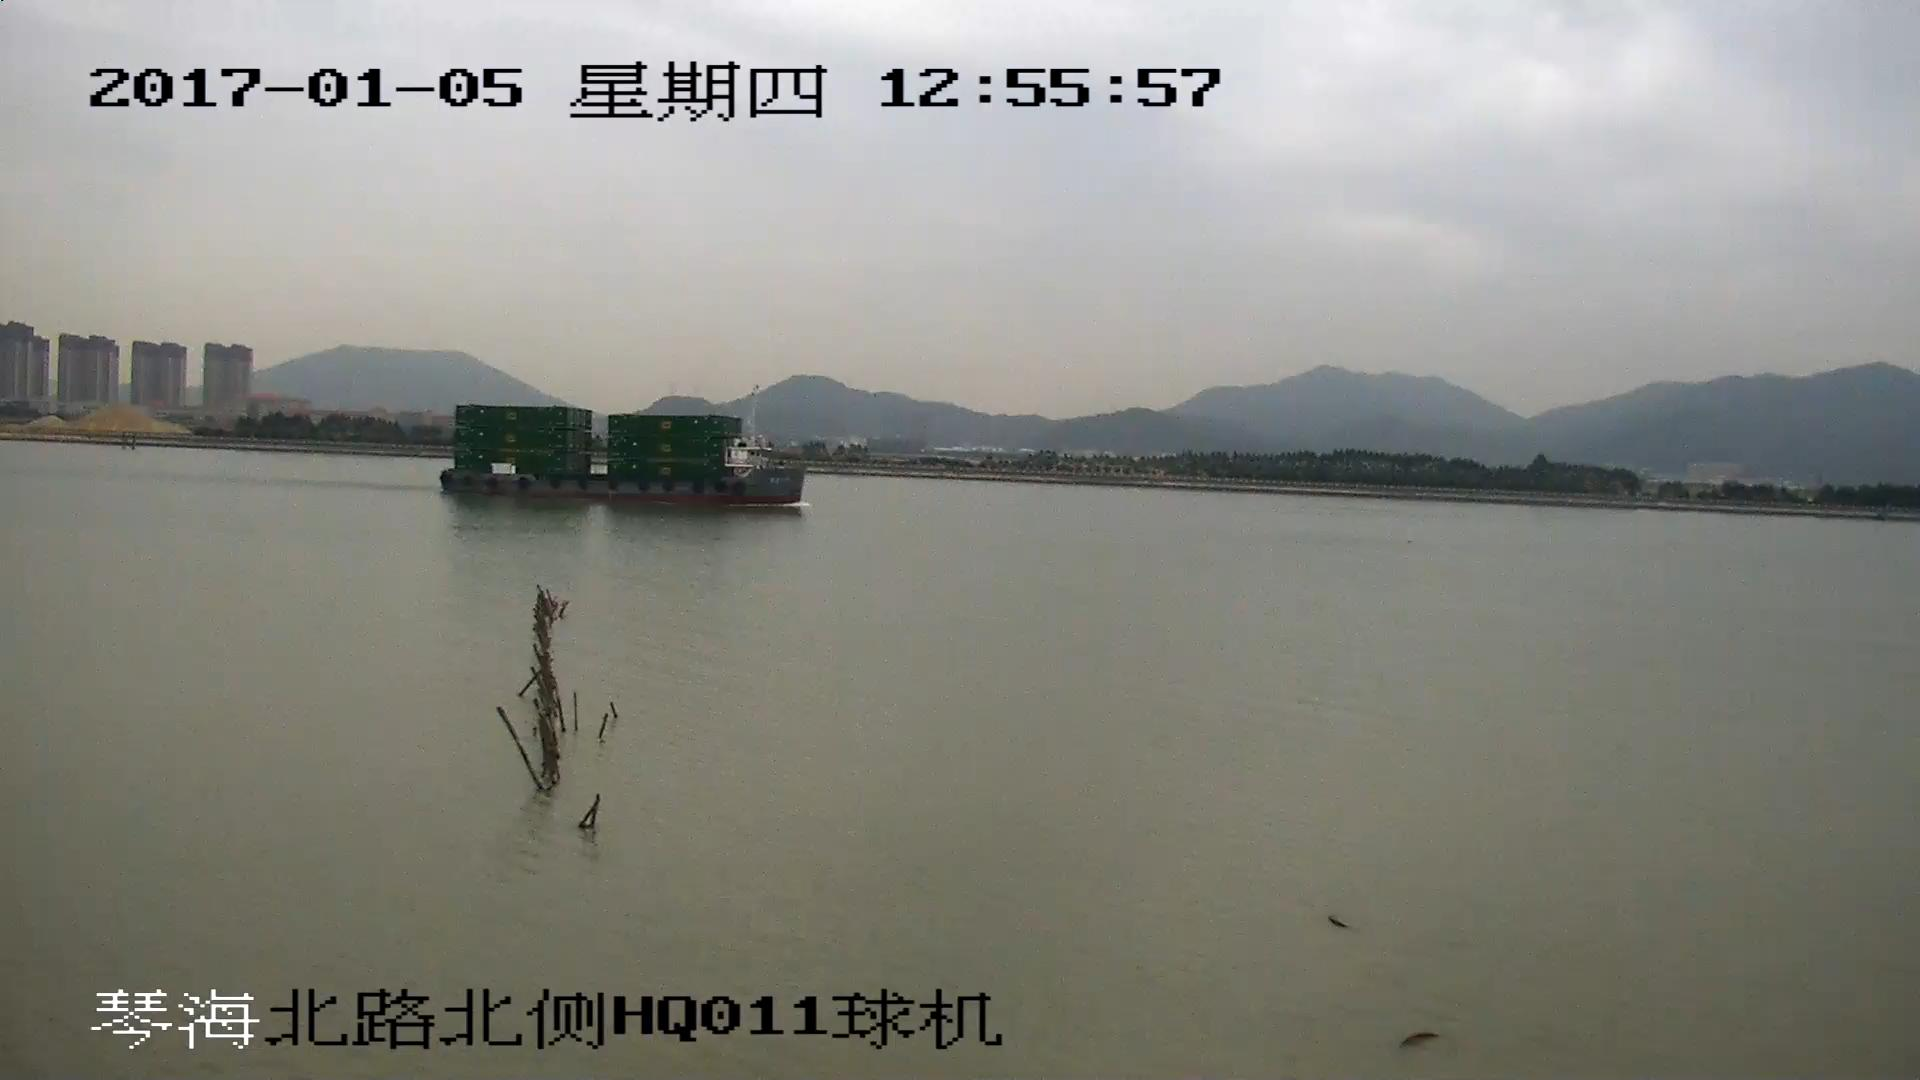container ship: (446, 403, 801, 508)
